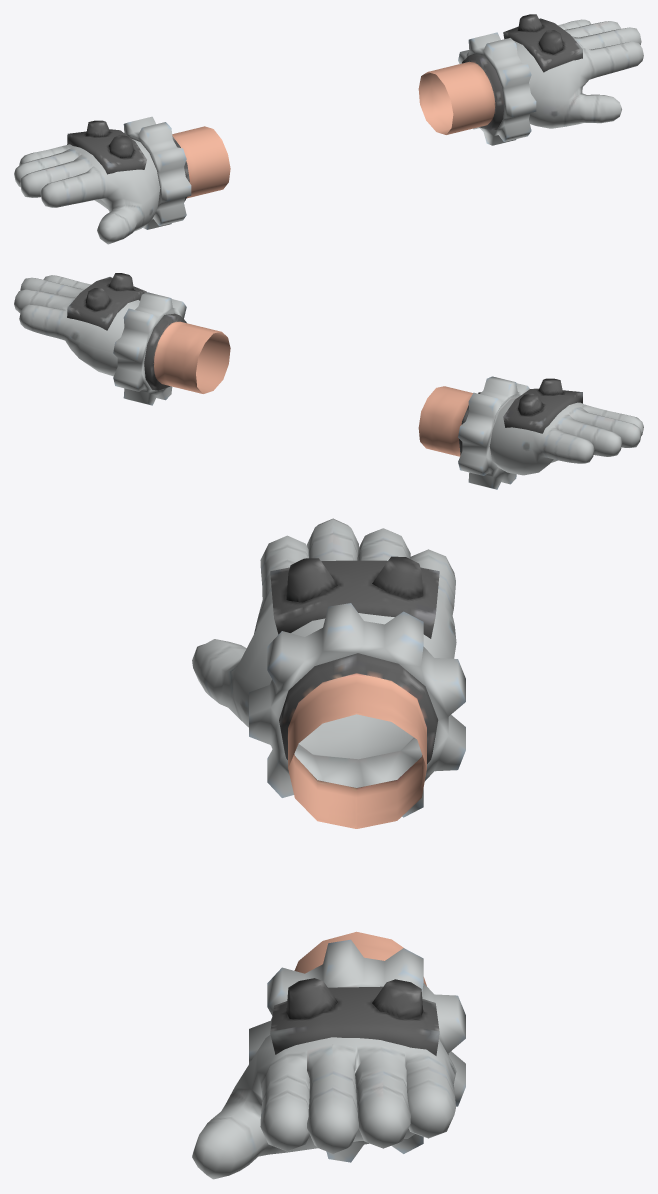
3 views of the same model, one above another, from view 1: azimuth 30°, elevation 25°; view 2: azimuth 150°, elevation 25°; view 3: azimuth 270°, elevation 25° (orthographic). The views are drawn at different scales.
Parts seen in each view (by area): view 1: model_0_submesh_0; view 2: model_0_submesh_0; view 3: model_0_submesh_0.
Boxes of the visible parts, left/top/right/bottom form: model_0_submesh_0: left=14, top=14, right=643, bottom=244; model_0_submesh_0: left=14, top=273, right=643, bottom=489; model_0_submesh_0: left=192, top=518, right=465, bottom=1179.
Bounding box in the file's own units: 1.29 × 0.2097 × 0.2478.
